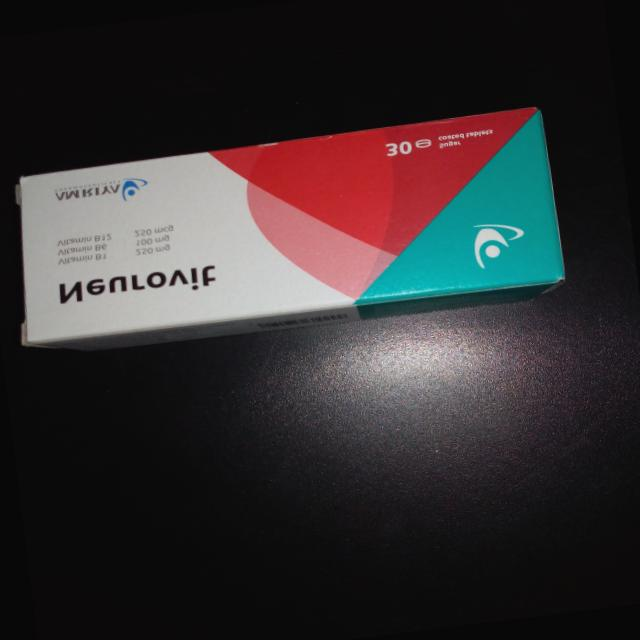medicine_packaging: (0, 82, 587, 381)
